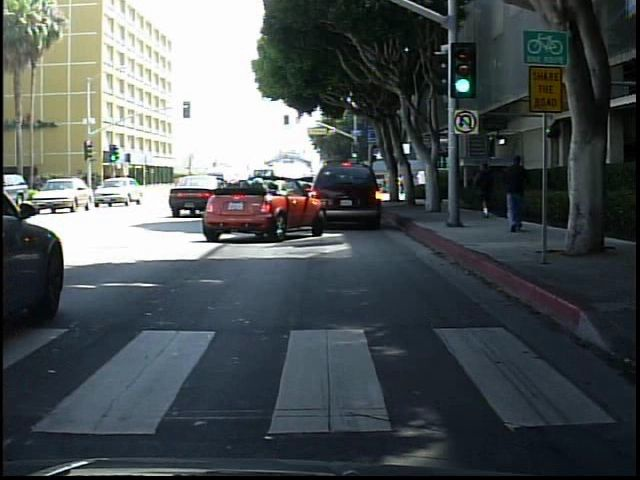person: (500, 147, 533, 237), (475, 156, 499, 222)
